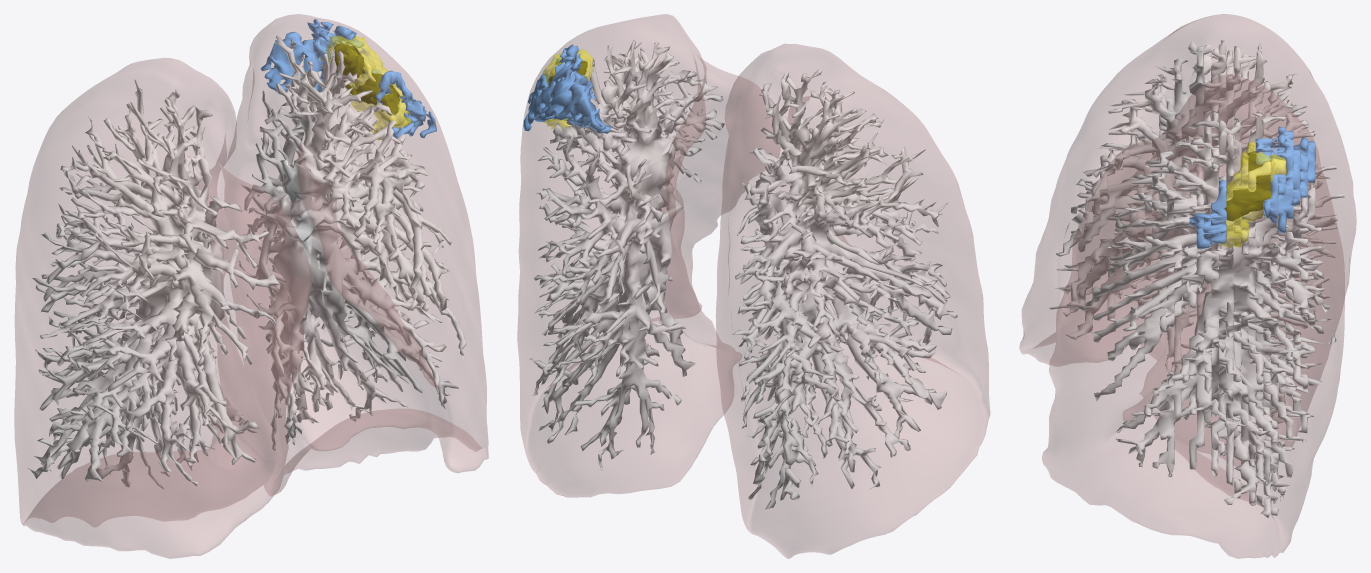
Rendered from Lungs.glb.
The picture shows the model from 3 angles, left to right: view 1: azimuth 30°, elevation 25°; view 2: azimuth 150°, elevation 25°; view 3: azimuth 270°, elevation 25°; orthographic projection. The views are drawn at different scales.
Visible parts, largest first — view 1: set1_lungs_right, set1_lungs_left, set1_bronchi_right, set1_bronchi_left, set1_man_infiltrate_left, set1_man_foci_trans_left, set1_man_cavity_left, set1_man_contents_left; view 2: set1_lungs_right, set1_lungs_left, set1_bronchi_right, set1_bronchi_left, set1_man_infiltrate_left, set1_man_foci_trans_left; view 3: set1_lungs_left, set1_bronchi_left, set1_lungs_right, set1_bronchi_right, set1_man_infiltrate_left, set1_man_foci_trans_left, set1_man_cavity_left, set1_man_contents_left.
Boxes of the visible parts, <box> form: set1_lungs_right: <box>14,58,311,558</box>; set1_lungs_left: <box>224,14,488,496</box>; set1_bronchi_right: <box>28,79,280,489</box>; set1_bronchi_left: <box>239,35,466,450</box>; set1_man_infiltrate_left: <box>260,19,436,138</box>; set1_man_foci_trans_left: <box>318,36,411,140</box>; set1_man_cavity_left: <box>334,43,399,115</box>; set1_man_contents_left: <box>328,44,406,126</box>; set1_lungs_right: <box>716,44,990,558</box>; set1_lungs_left: <box>517,14,780,497</box>; set1_bronchi_right: <box>732,69,957,509</box>; set1_bronchi_left: <box>529,40,724,470</box>; set1_man_infiltrate_left: <box>523,44,611,133</box>; set1_man_foci_trans_left: <box>542,49,593,128</box>; set1_lungs_left: <box>1042,74,1344,558</box>; set1_bronchi_left: <box>1078,110,1336,517</box>; set1_lungs_right: <box>1019,14,1356,467</box>; set1_bronchi_right: <box>1049,40,1344,423</box>; set1_man_infiltrate_left: <box>1189,126,1315,249</box>; set1_man_foci_trans_left: <box>1219,142,1286,247</box>; set1_man_cavity_left: <box>1225,151,1270,220</box>; set1_man_contents_left: <box>1226,158,1285,231</box>.
Size of the model in its own units: 2.55 by 2.81 by 1.92.
